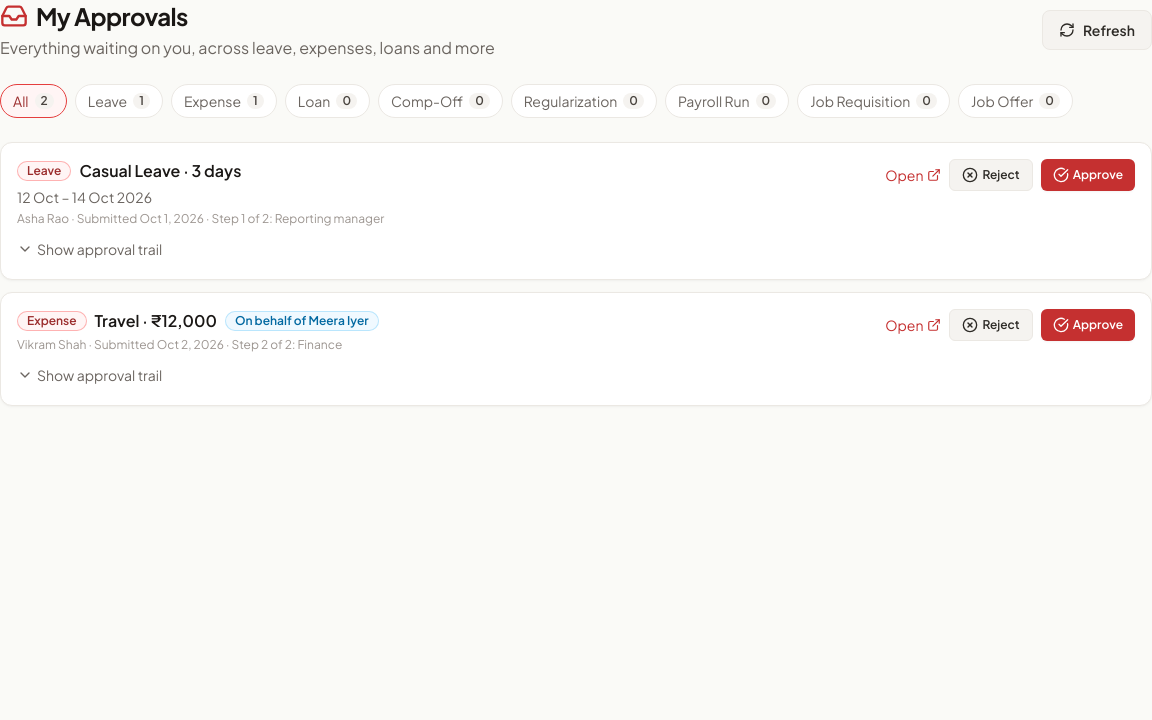
MyApprovalsPage › approves with a note, then refreshes the inbox
Expected: the text "Casual Leave · 3 days" is shown, x1=79 y1=159 x2=241 y2=183
Click the button with aria-label "Approve Casual Leave · 3 days" at point(1088, 175), box x1=1041 y1=159 x2=1135 y2=191
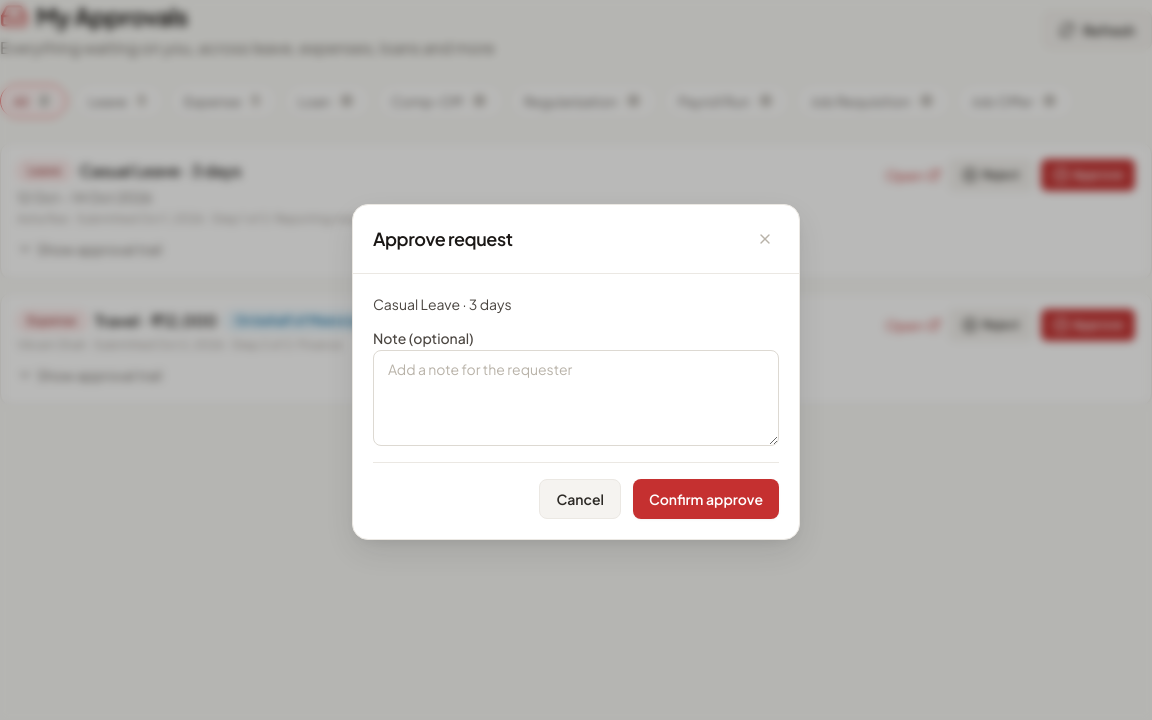
Type "Enjoy the break" into the text box labelled "Note (optional)" at point(576, 398), box x1=373 y1=350 x2=779 y2=446
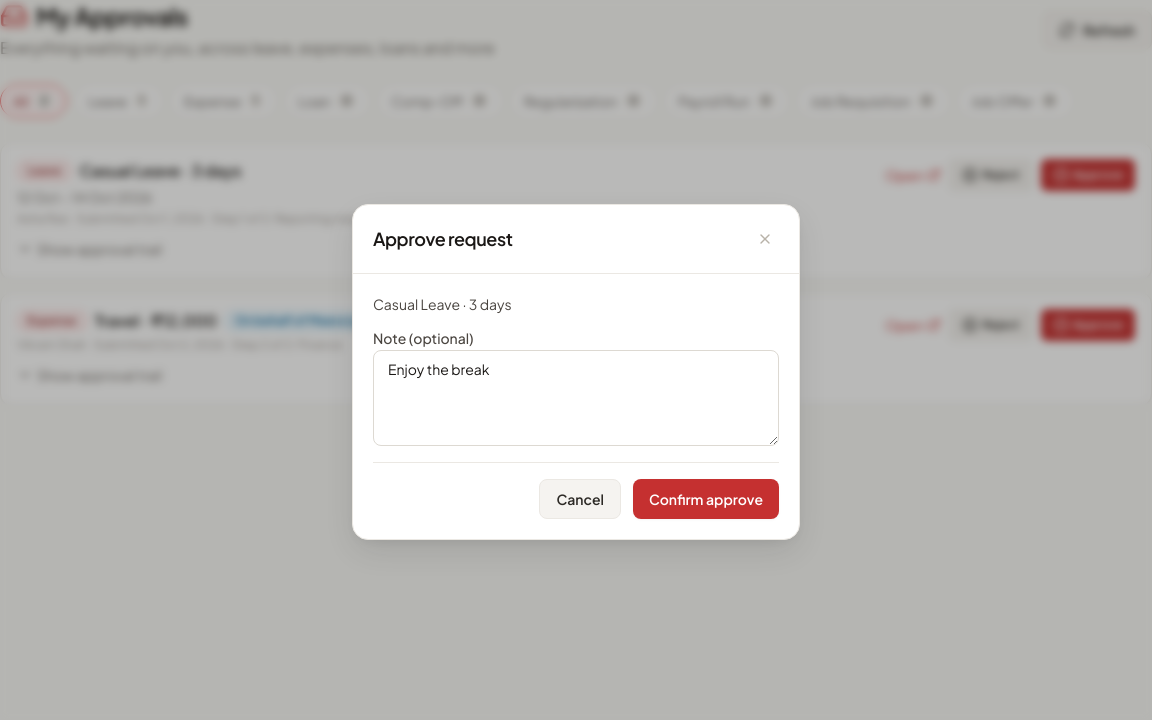
Click the button "Confirm approve" at point(706, 499), box x1=633 y1=479 x2=779 y2=519
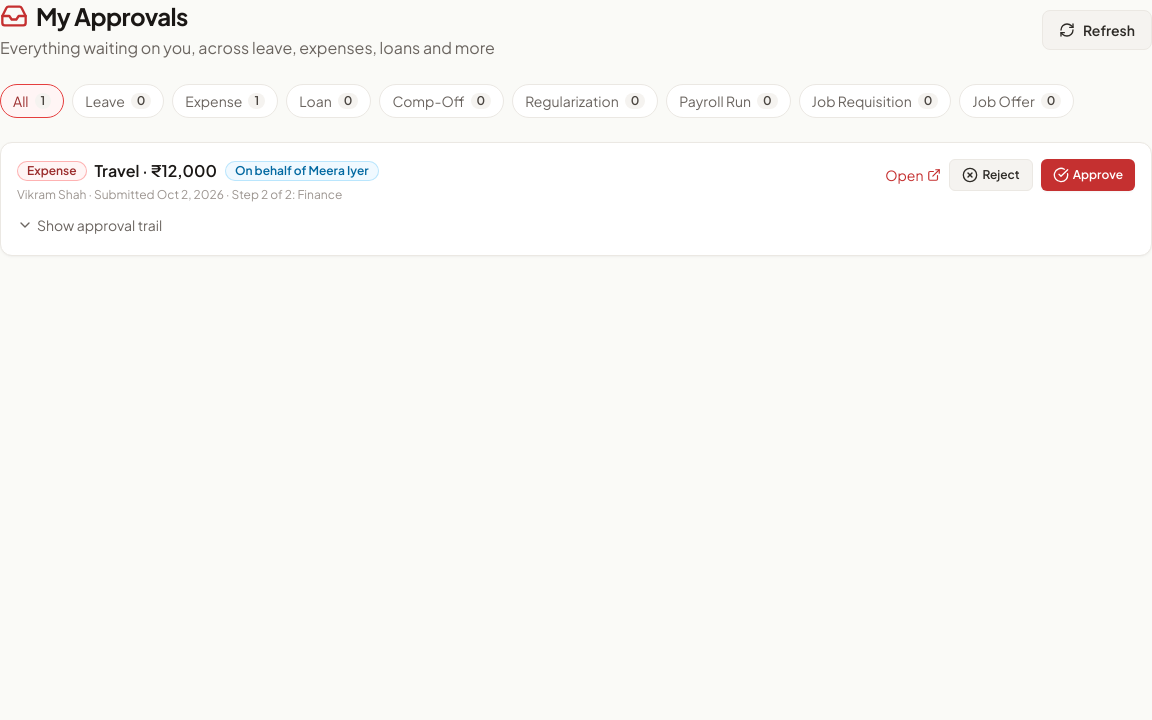
Now the text "Casual Leave · 3 days" is gone
